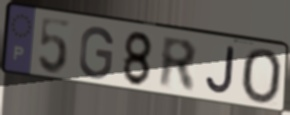5: (36, 15, 75, 77)
8: (121, 30, 154, 90)
G: (77, 25, 116, 82)
J: (204, 45, 236, 98)
O: (240, 47, 285, 108)
R: (158, 33, 199, 95)
